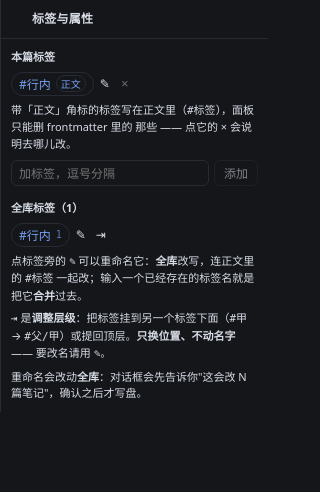
Scenario: 标签面板：加标签 › 完全没有 frontmatter 的笔记：加标签会补出区块，正文一行都不被吞
Expected: the button "#行内 正文" is shown, [11,72,94,96]
Step 1. Type "新" into the field named "添加标签" → (110, 173), box [11,160,209,186]
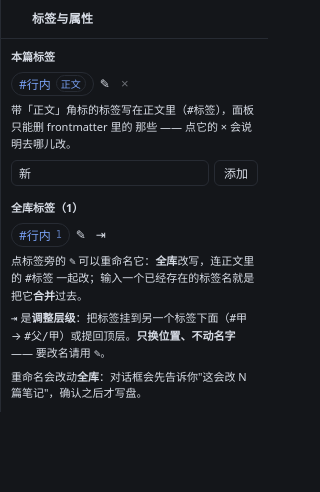
Step 2. Submit the form named "添加标签", box [11,160,258,186]
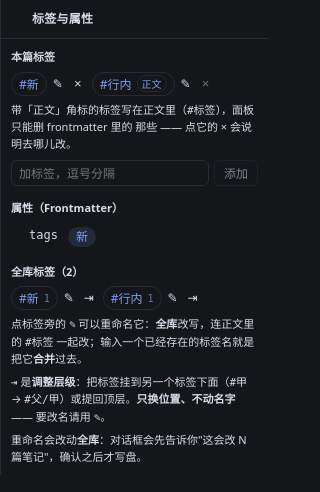
Expected: the button "#行内 正文" is shown, [92,72,175,96]
Expected: the button "#新" is shown, [11,72,47,96]
